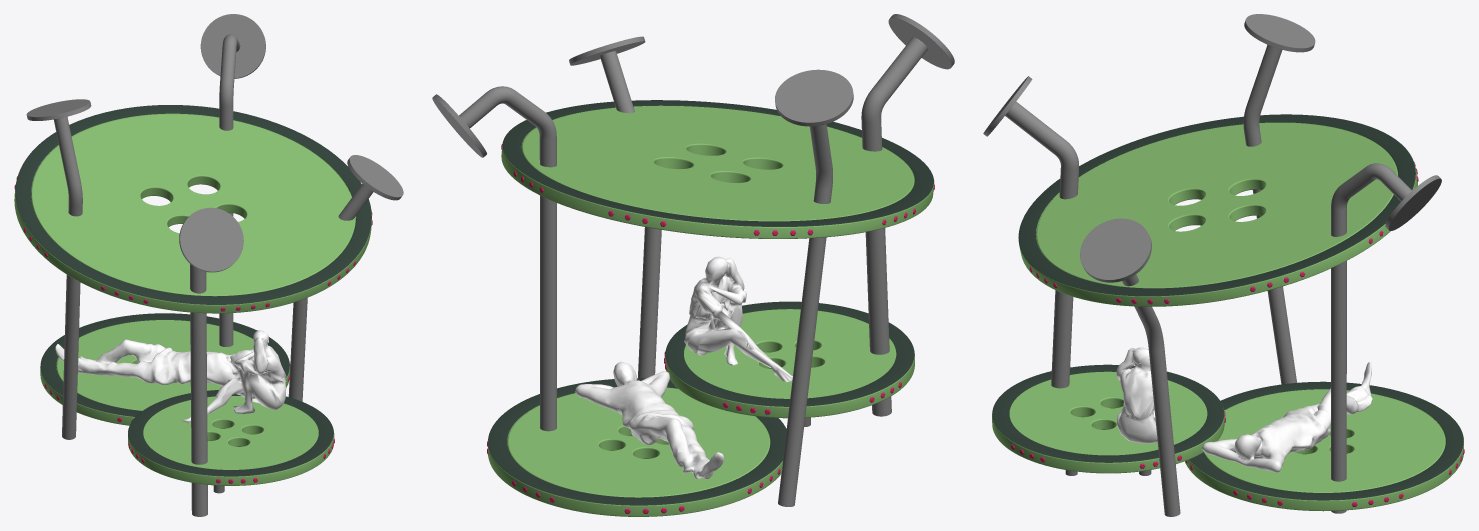
3 renders of one model, left to right at view 1: azimuth 30°, elevation 25°; view 2: azimuth 150°, elevation 25°; view 3: azimuth 270°, elevation 25°, orthographic. The views are drawn at different scales.
Parts seen in each view (by area): view 1: center_002, Rim_002, center_003, center_001, Rim_003, lying_person, Nail004, Rim_001, Nail01, mesh_node001, Circle011, Circle012 (+4 smaller); view 2: center_002, center_001, Rim_002, center_003, Rim_001, Rim_003, Nail005, lying_person, Nail004, mesh_node001, Nail01, Nail003 (+4 smaller); view 3: center_002, center_001, Rim_002, center_003, Rim_001, Rim_003, Nail005, lying_person, Nail01, Nail003, Circle013, Nail004 (+3 smaller).
Boxes of the visible parts, left/top/right/bottom form: center_002: left=31, top=114, right=355, bottom=296; Rim_002: left=14, top=105, right=371, bottom=313; center_003: left=143, top=396, right=318, bottom=469; center_001: left=56, top=320, right=253, bottom=410; Rim_003: left=128, top=390, right=334, bottom=485; lying_person: left=55, top=339, right=253, bottom=386; Nail004: left=53, top=116, right=82, bottom=439; Rim_001: left=40, top=313, right=289, bottom=425; Nail01: left=190, top=264, right=207, bottom=516; mesh_node001: left=182, top=330, right=286, bottom=422; Circle011: left=179, top=207, right=243, bottom=272; Circle012: left=200, top=14, right=265, bottom=78; center_002: left=522, top=106, right=914, bottom=221; center_001: left=507, top=387, right=770, bottom=497; Rim_002: left=501, top=100, right=934, bottom=238; center_003: left=684, top=309, right=896, bottom=398; Rim_001: left=488, top=378, right=786, bottom=516; Rim_003: left=665, top=301, right=914, bottom=418; Nail005: left=459, top=86, right=556, bottom=431; lying_person: left=575, top=361, right=723, bottom=478; Nail004: left=778, top=124, right=832, bottom=506; mesh_node001: left=684, top=256, right=792, bottom=382; Nail01: left=861, top=37, right=927, bottom=416; Nail003: left=600, top=51, right=661, bottom=378; center_002: left=1036, top=122, right=1398, bottom=288; center_001: left=1204, top=389, right=1445, bottom=492; Rim_002: left=1018, top=114, right=1417, bottom=306; center_003: left=1009, top=371, right=1207, bottom=455; Rim_001: left=1185, top=381, right=1463, bottom=511; Rim_003: left=992, top=364, right=1224, bottom=473; Nail005: left=1331, top=163, right=1412, bottom=513; lying_person: left=1202, top=362, right=1372, bottom=472; Nail01: left=1005, top=101, right=1079, bottom=388; Nail003: left=1122, top=274, right=1180, bottom=516; Circle013: left=1080, top=218, right=1151, bottom=282; Nail004: left=1243, top=44, right=1296, bottom=384.
Size of the model in its own units: 3.38 by 3.59 by 3.93.
